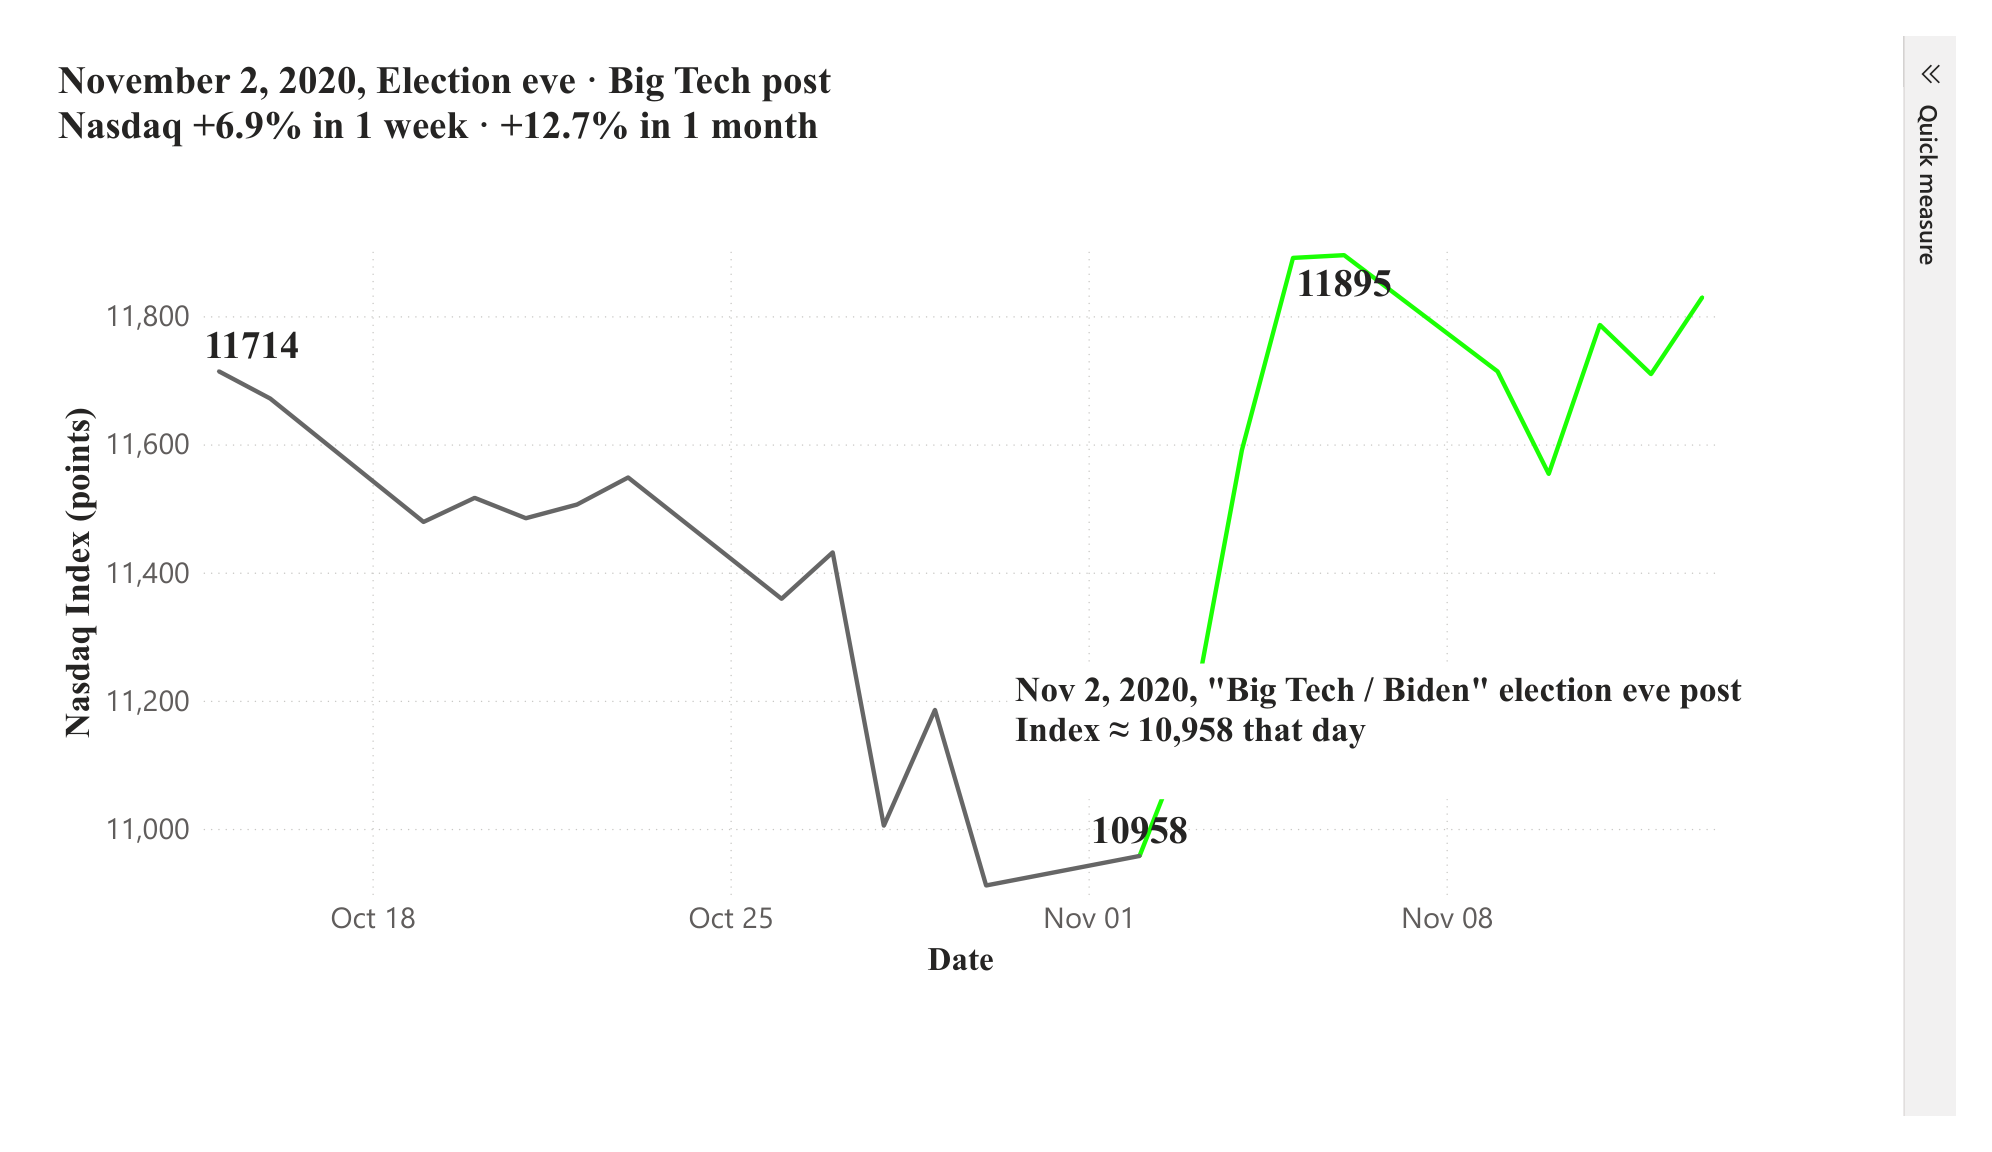

This screenshot's page, from the dashboard's own definition file:
{"tool":"powerbi","page":{"name":"NDX - Nov 2020","canvas":[1280,720],"ordinal":10},"visuals":[{"type":"textbox","box":[10,0,667.1,85.7],"z":0},{"type":"lineChart","fields":{"Category":["Market_Prices.date_only"],"Y":["Market_Prices.NDX_Nov2_Labels","Market_Prices.NDX_Nov2_Green","Market_Prices.NDX_Nov2_Gray"]},"box":[10,124.3,1168.6,515.7],"z":1},{"type":"textbox","box":[665.7,420,512.9,92.9],"z":2}]}

Visuals, with their boxes on the page's 1280x720 design canvas (x1, y1, x2, y2). These are canvas units, not pixel positions in the 1992x1152 screenshot, which may show the page scaled, cropped or inside an application window:
textbox: box=[10, 0, 677, 86]
lineChart - Market_Prices.date_only x Market_Prices.NDX_Nov2_Labels: box=[10, 124, 1179, 640]
textbox: box=[666, 420, 1179, 513]
